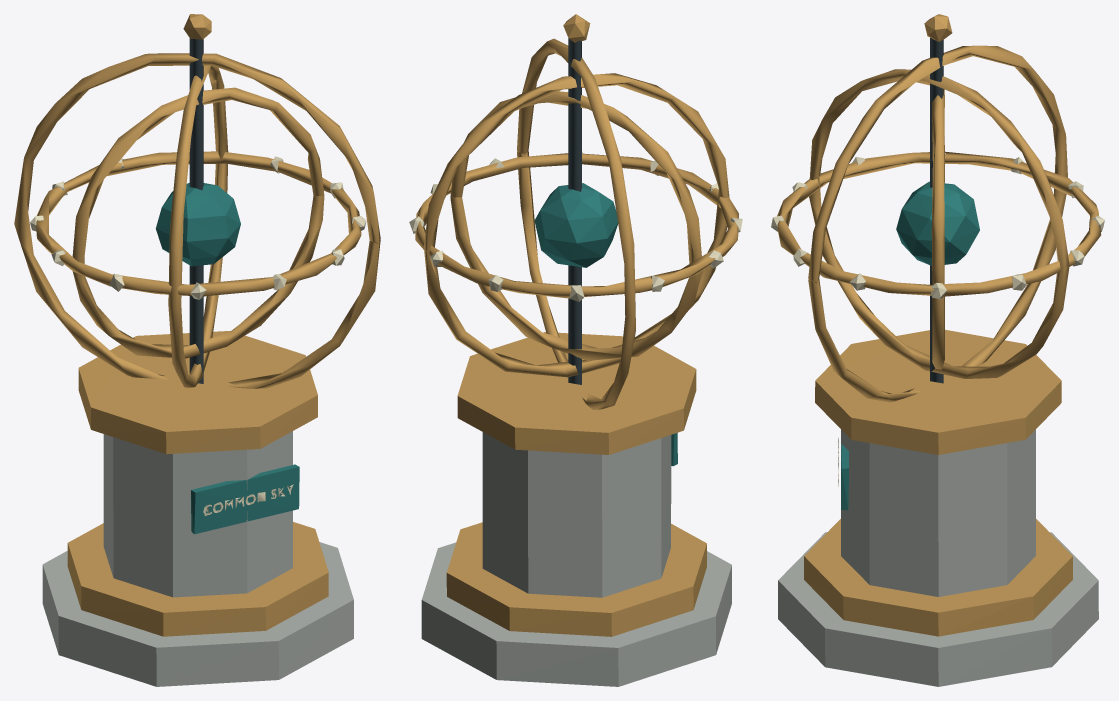
Rendered from prop_aegis_civic_orrery_lod2.glb.
The picture shows the model from 3 angles, left to right: view 1: azimuth 30°, elevation 25°; view 2: azimuth 150°, elevation 25°; view 3: azimuth 270°, elevation 25°; orthographic projection.
Parts seen in each view (by area): view 1: aegis_civic_orrery.001; view 2: aegis_civic_orrery.001; view 3: aegis_civic_orrery.001.
Boxes of the visible parts, box(x1,y1,x2,y2) form: aegis_civic_orrery.001: box(14, 14, 380, 686); aegis_civic_orrery.001: box(409, 14, 742, 686); aegis_civic_orrery.001: box(771, 14, 1104, 686).
Size of the model in its own units: 1.81 by 3.6 by 1.8.
